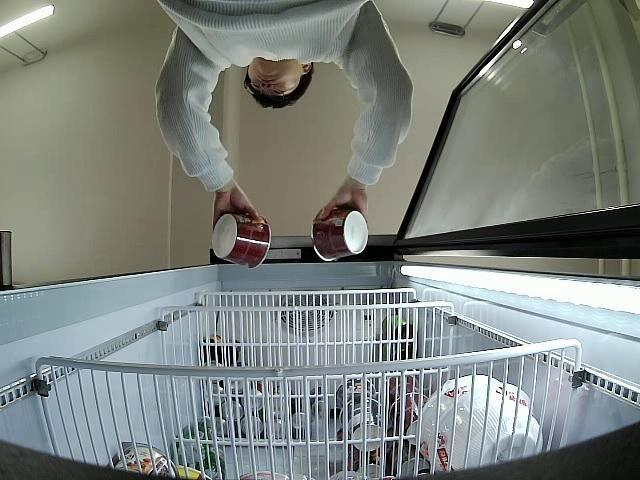05_nuguri_L: (212, 214, 271, 268), (310, 210, 368, 264)
